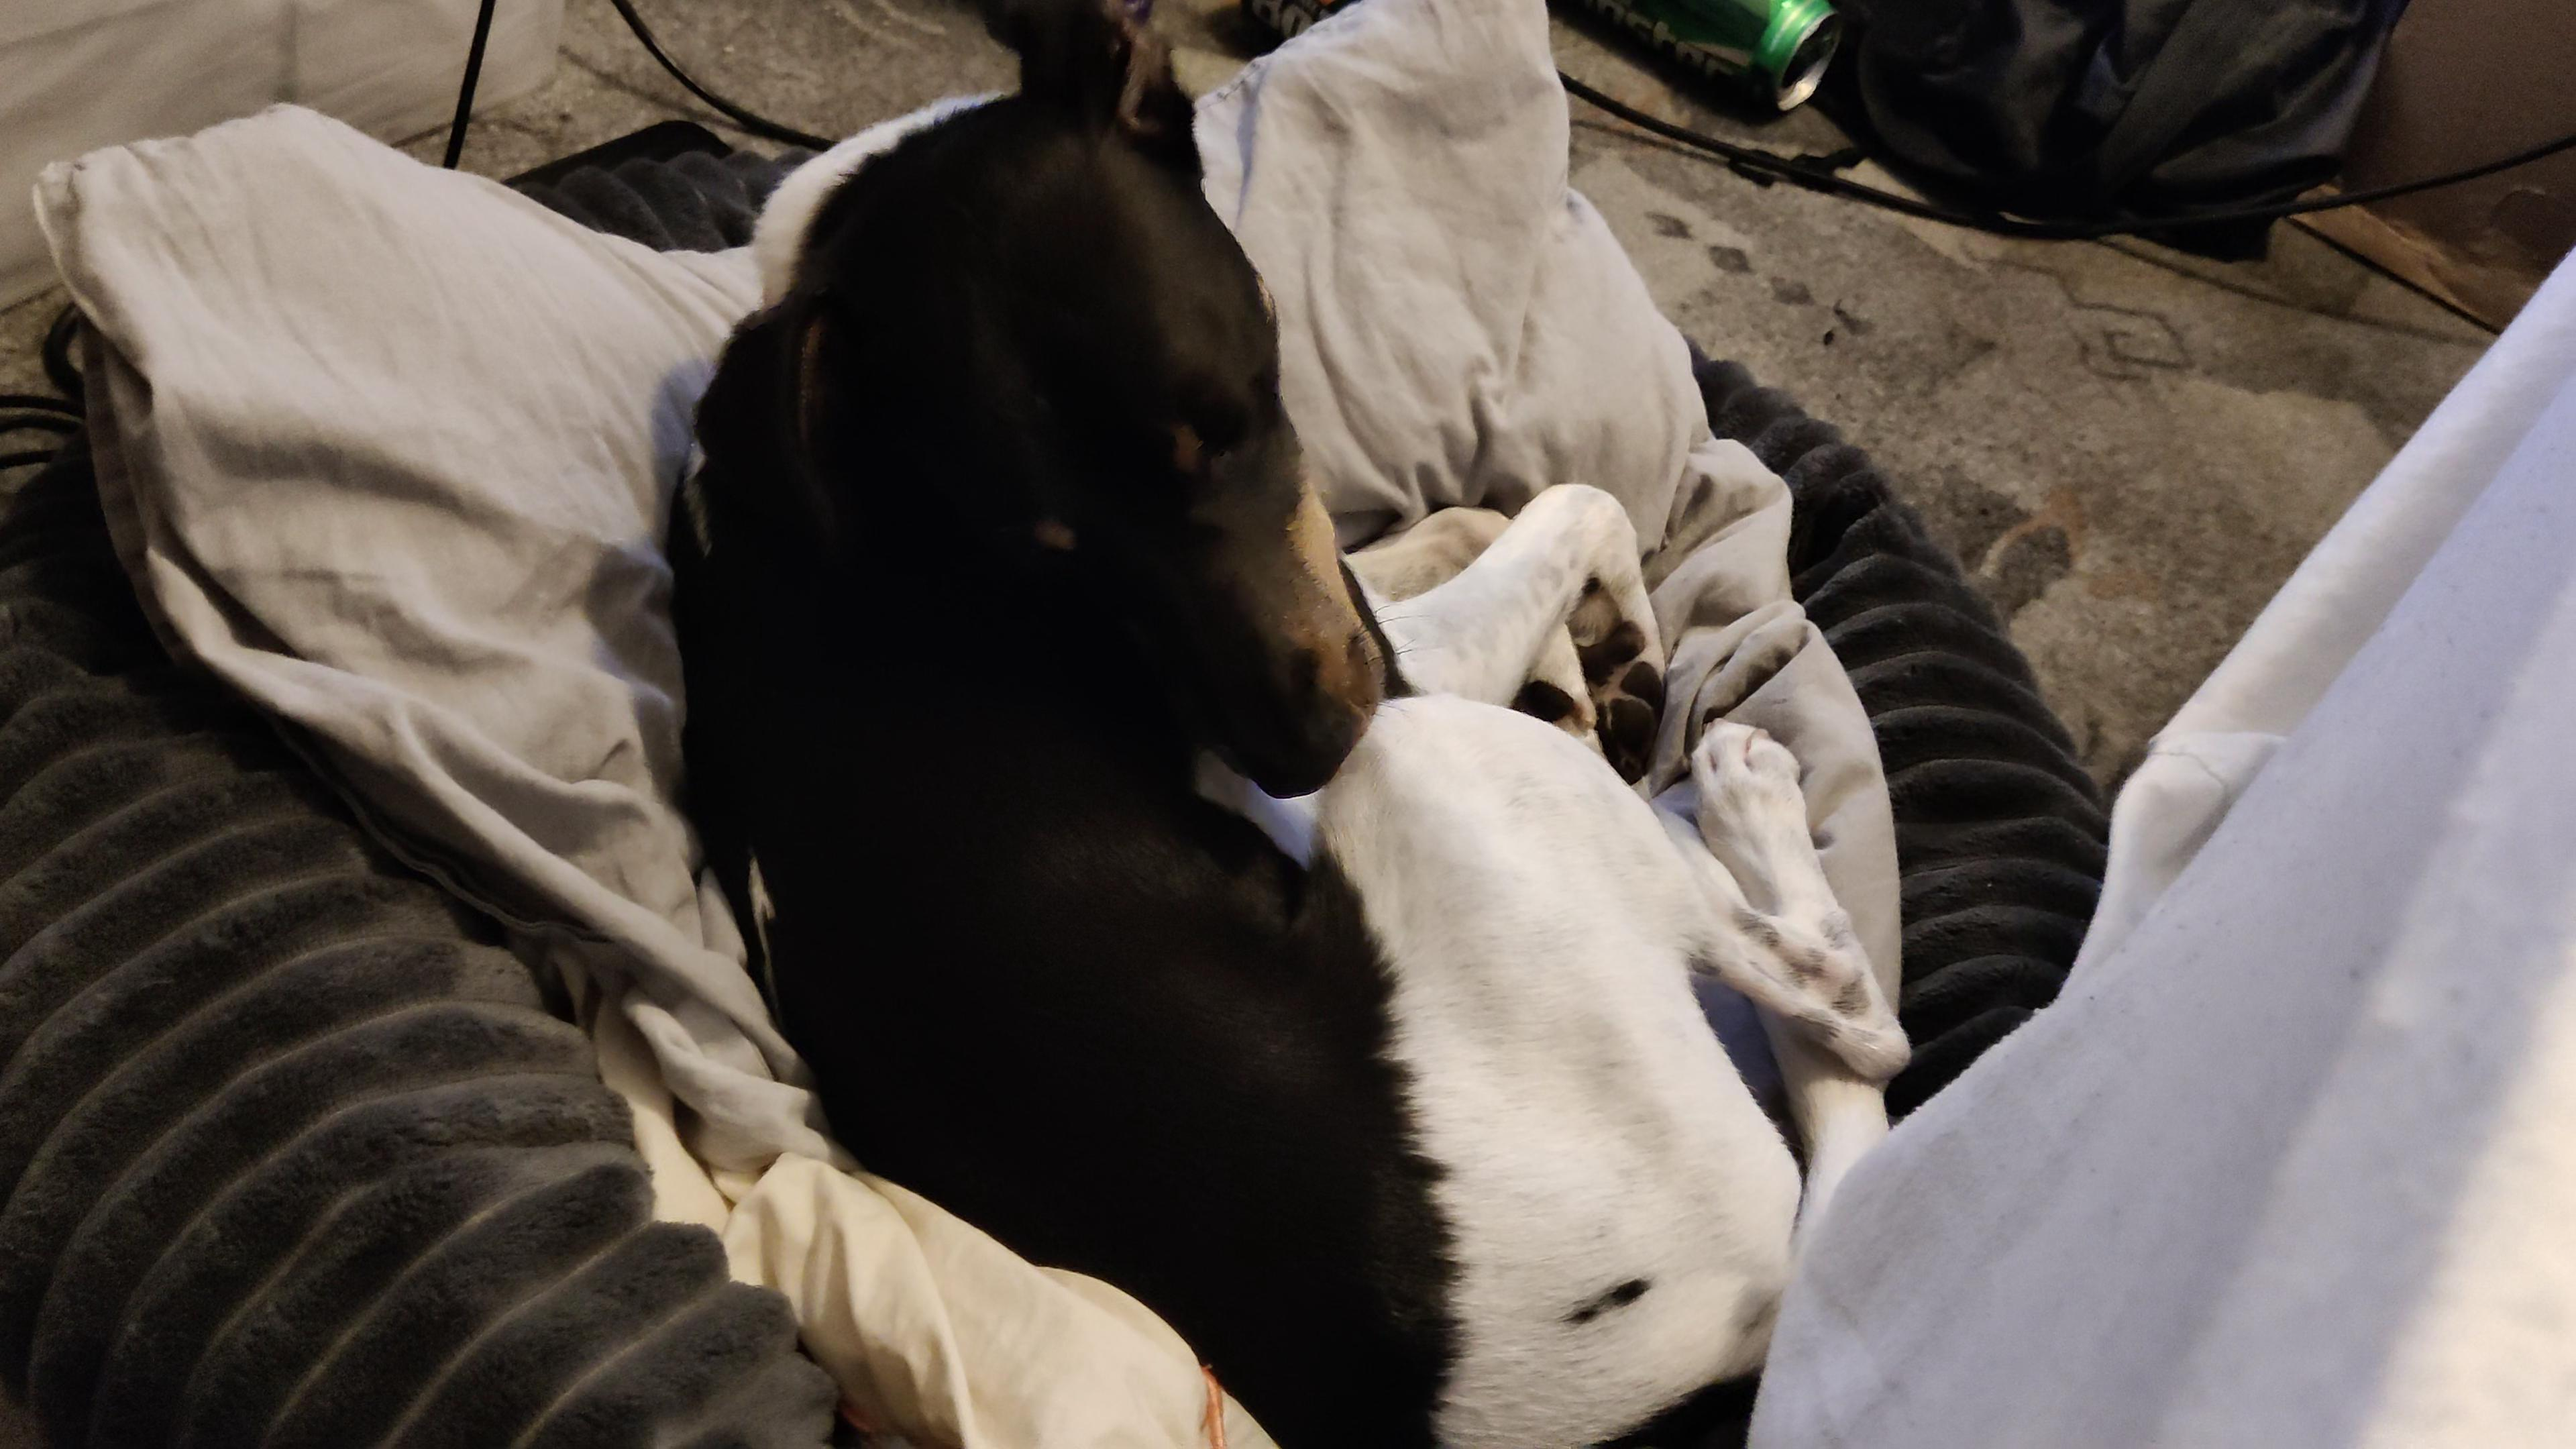Dog: (649, 0, 1928, 1449)
